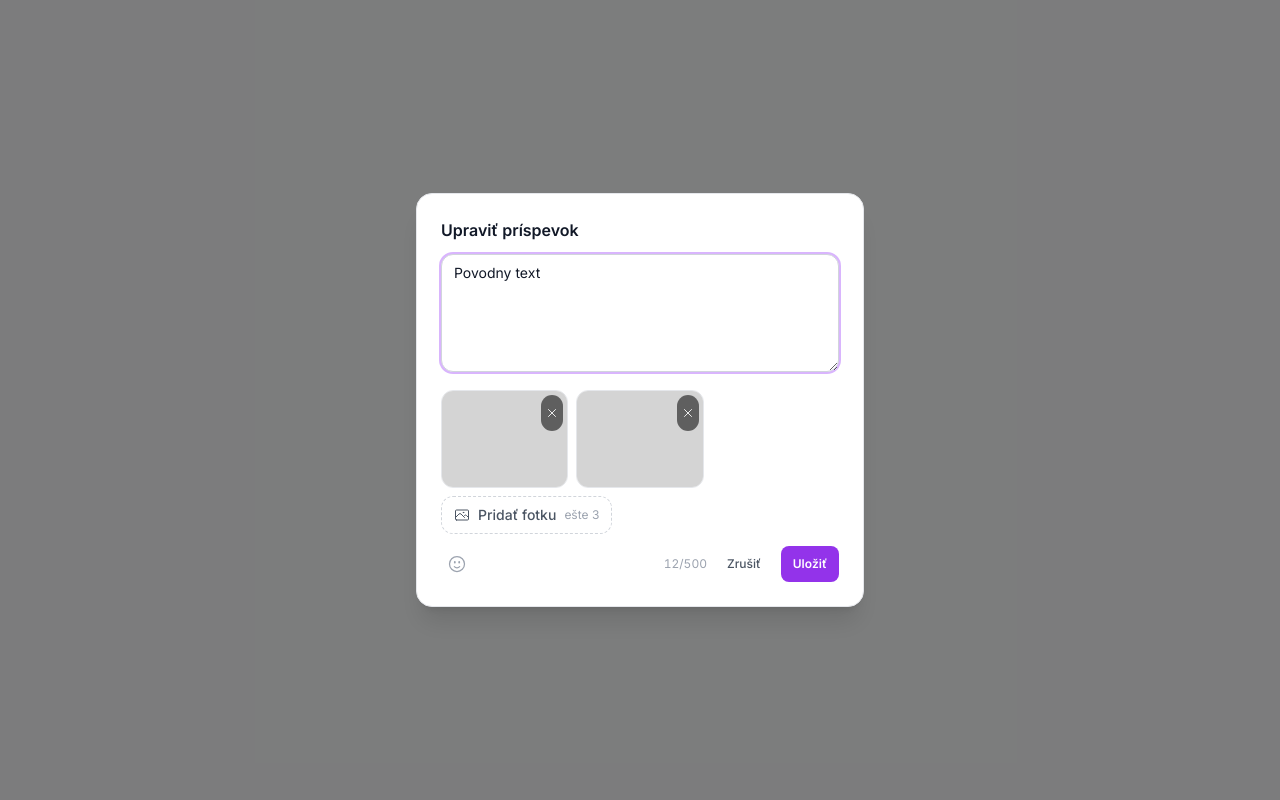
Test: draft odobratia › marks a photo instead of hiding it right away
The width and height of the screenshot is (1280, 800).
Click the button with test id "feed-post-edit-photo-remove-11" at x=552, y=413, box top-left (541, 395), bottom-right (563, 431)
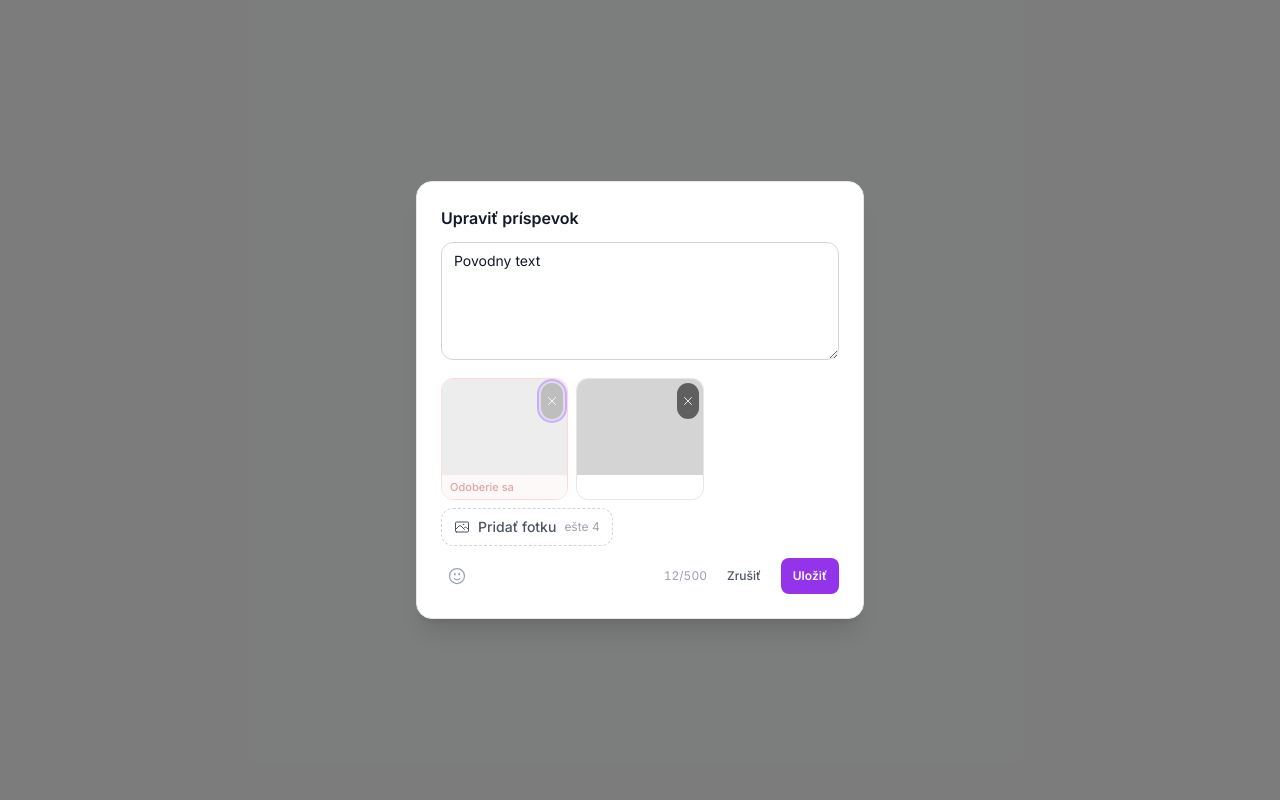
Expected: the text "Odoberie sa" is shown, top-left (442, 475), bottom-right (567, 499)
